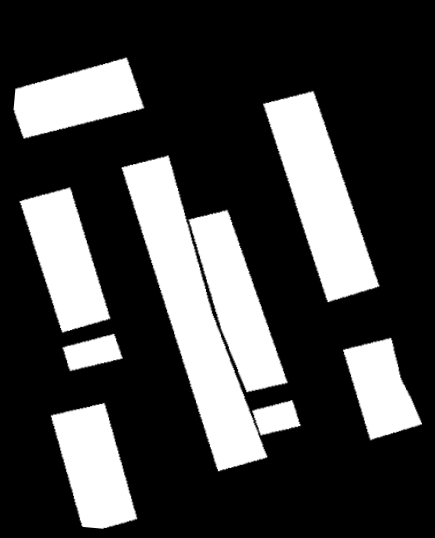parkingspot: (122, 155, 267, 471), (263, 91, 379, 302), (189, 210, 288, 392), (20, 187, 110, 333), (51, 403, 137, 529), (13, 58, 144, 139), (343, 338, 422, 440), (63, 334, 123, 371), (252, 400, 301, 435)
